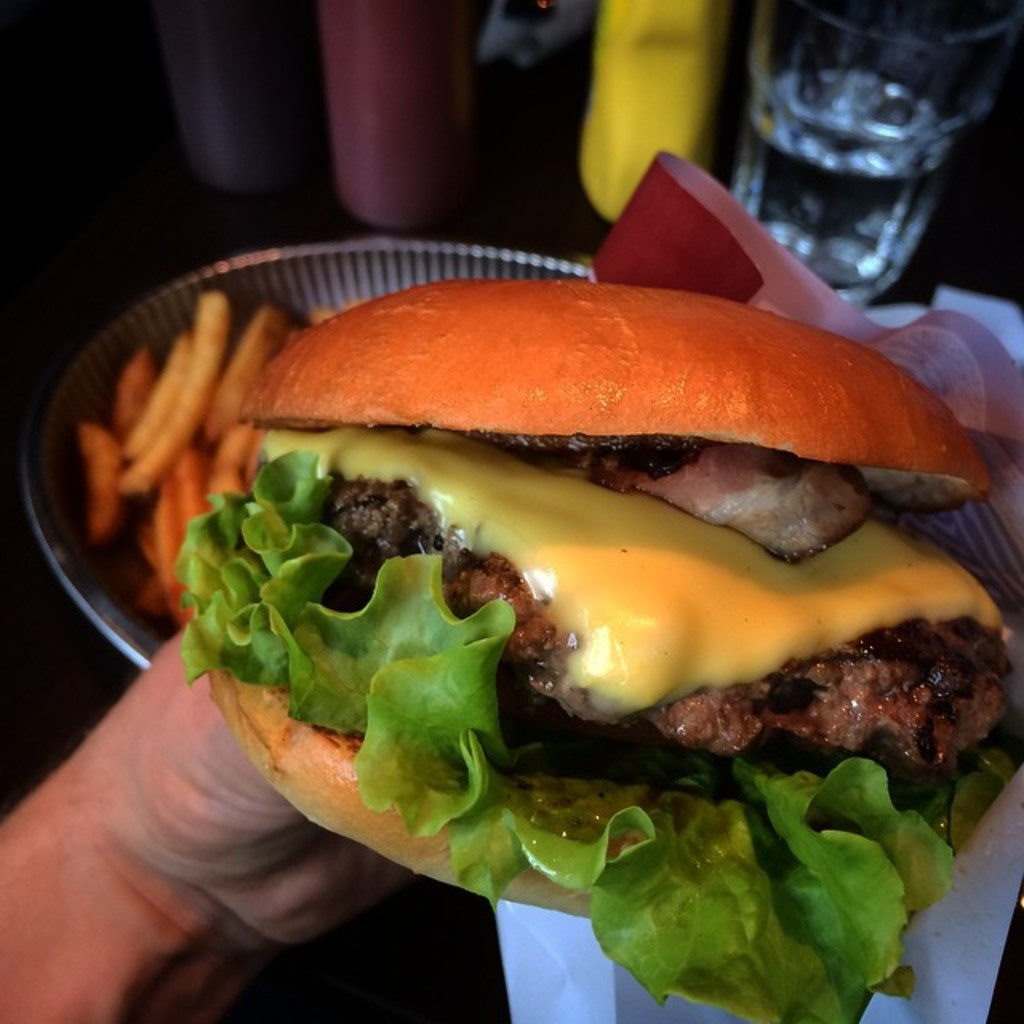Hamburger: (137, 275, 1022, 1022)
